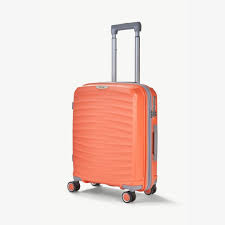suitcase: (63, 21, 160, 204)
